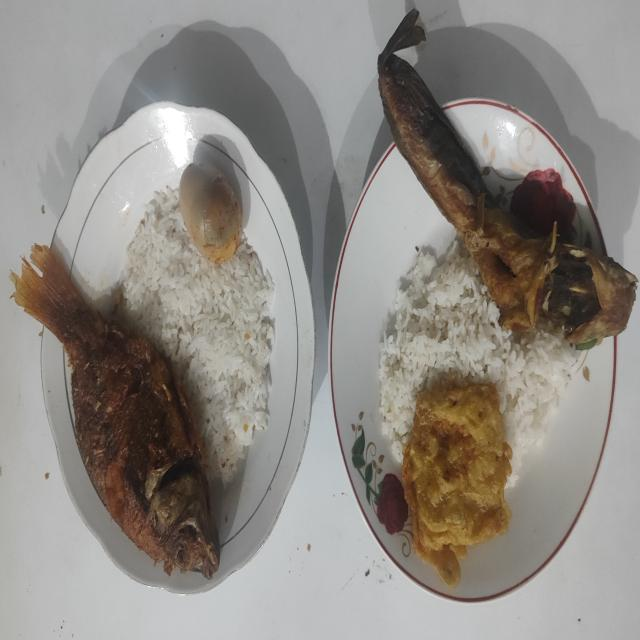ikan_mujair: (12, 244, 220, 578)
nasi_putih: (379, 236, 581, 489), (120, 188, 276, 482)
